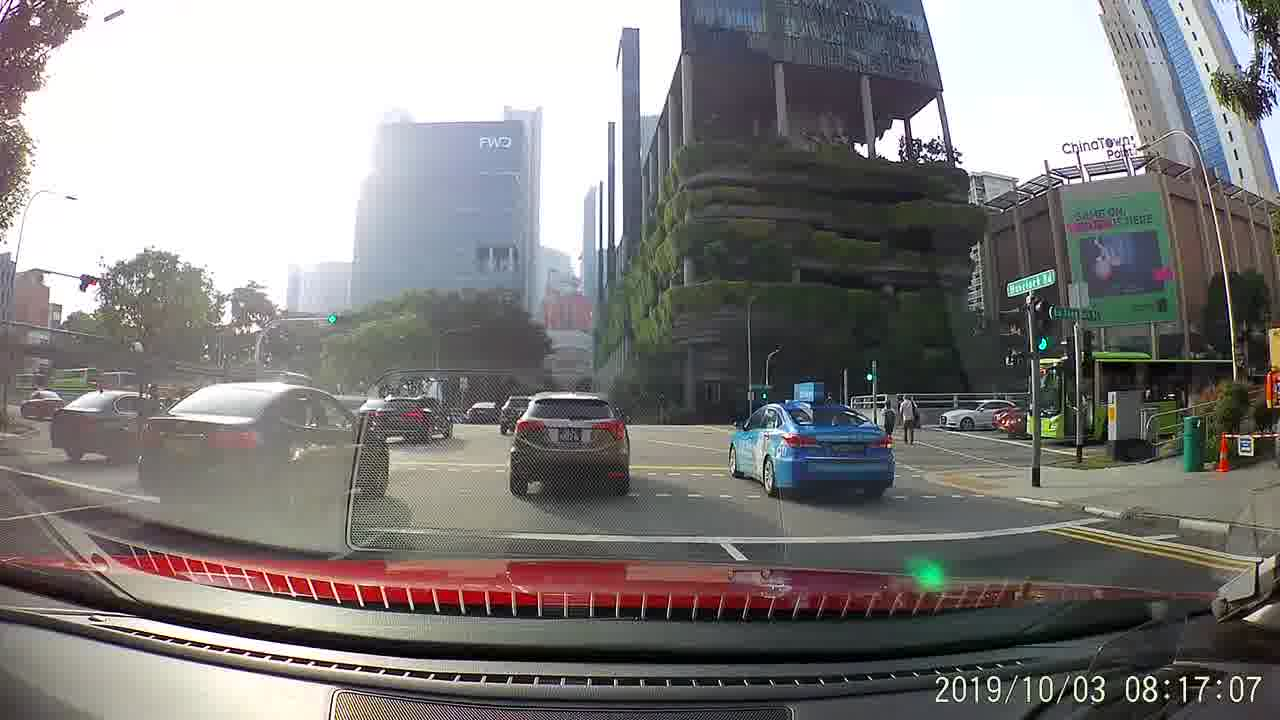bus: (1033, 354, 1238, 448)
car: (141, 375, 389, 516), (729, 374, 893, 501), (510, 388, 631, 502), (55, 386, 173, 464), (375, 390, 455, 448), (938, 395, 1019, 430), (16, 387, 66, 422), (501, 394, 534, 434), (995, 403, 1028, 437), (466, 399, 502, 424)
